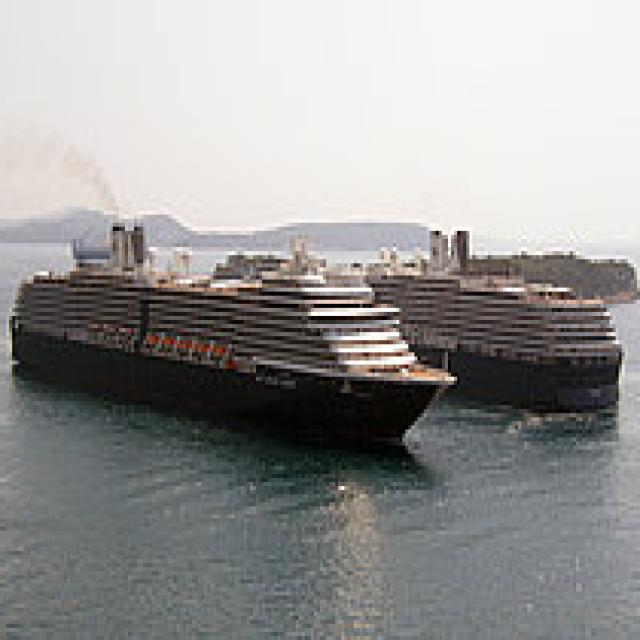Cruise: (12, 215, 463, 450), (341, 223, 631, 409)
